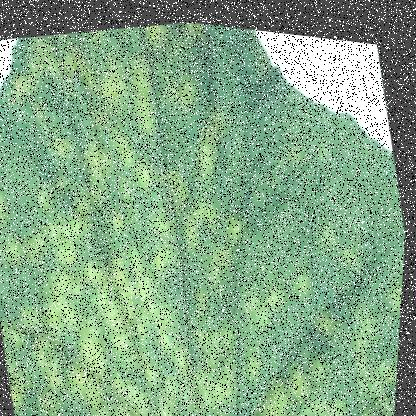CassavaMosaicDisease: (11, 2, 301, 294), (80, 139, 379, 415), (0, 135, 197, 415), (254, 114, 411, 415)
